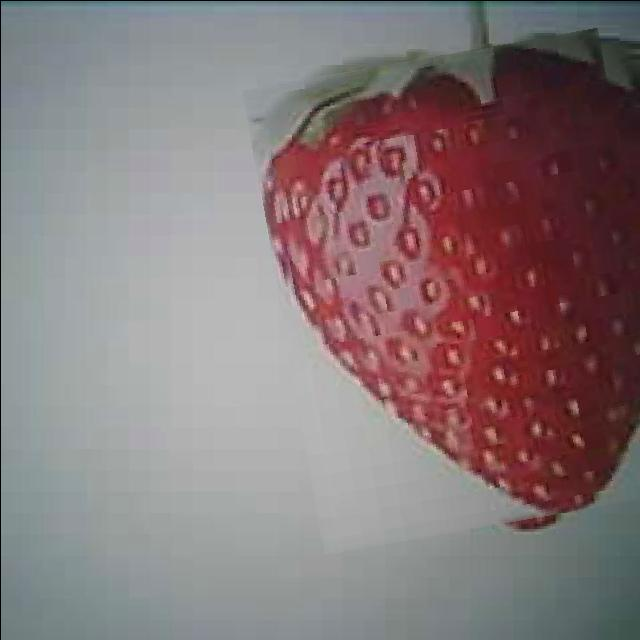strawberry: (260, 41, 640, 540)
